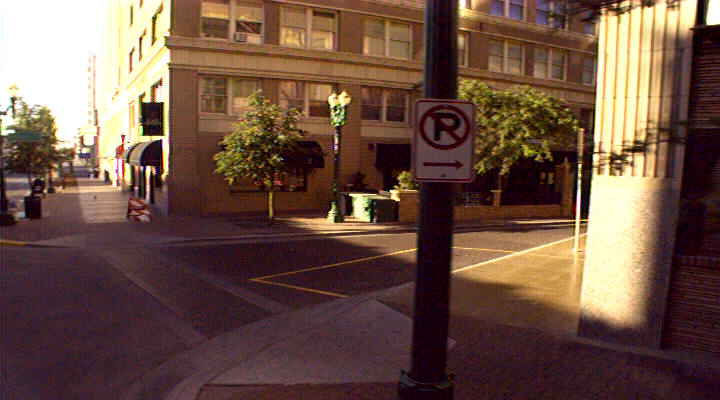Ramp: (190, 294, 458, 388), (23, 223, 192, 251)
